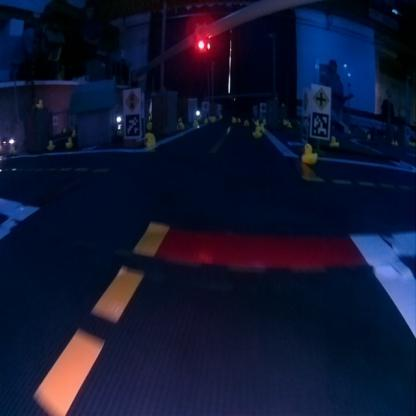Duckie: (301, 144, 317, 162), (143, 132, 154, 146), (252, 126, 260, 134), (331, 136, 337, 146), (46, 140, 53, 148), (243, 118, 249, 127), (66, 136, 72, 144)
Intersection sign: (312, 86, 327, 110)
QR code: (311, 111, 329, 138), (124, 115, 139, 137)
Signal sign: (124, 89, 139, 112)
Traffic light: (193, 23, 209, 51)
